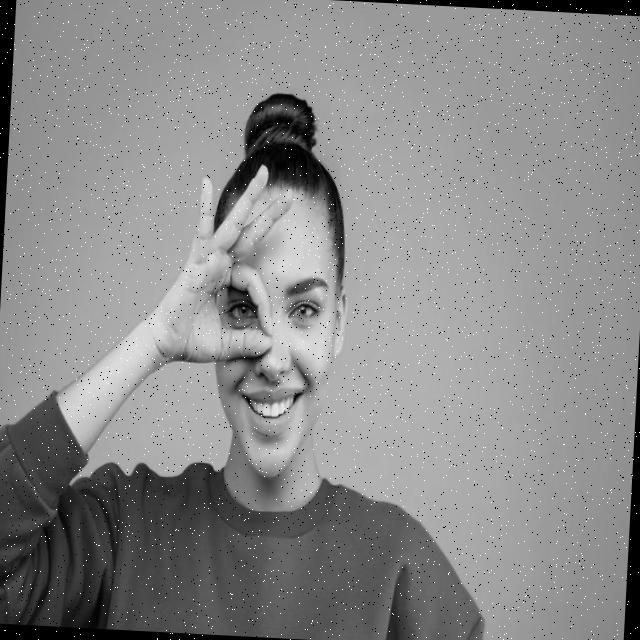Happiness: (207, 188, 344, 482)
